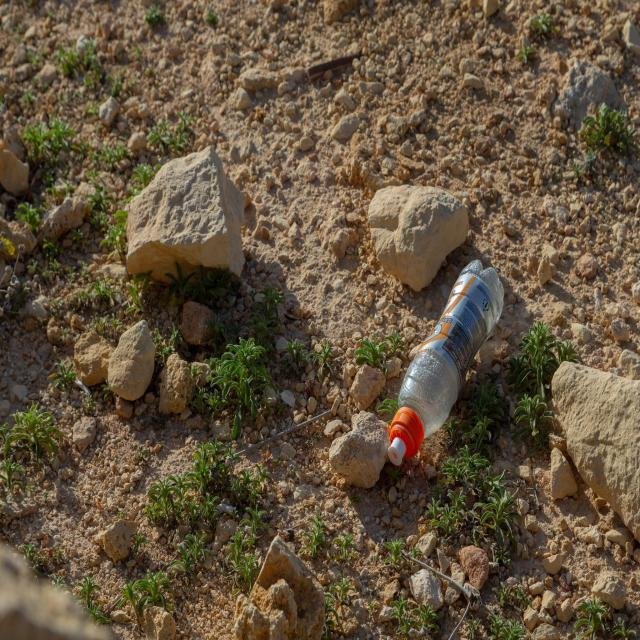Bottle: (386, 258, 505, 471)
